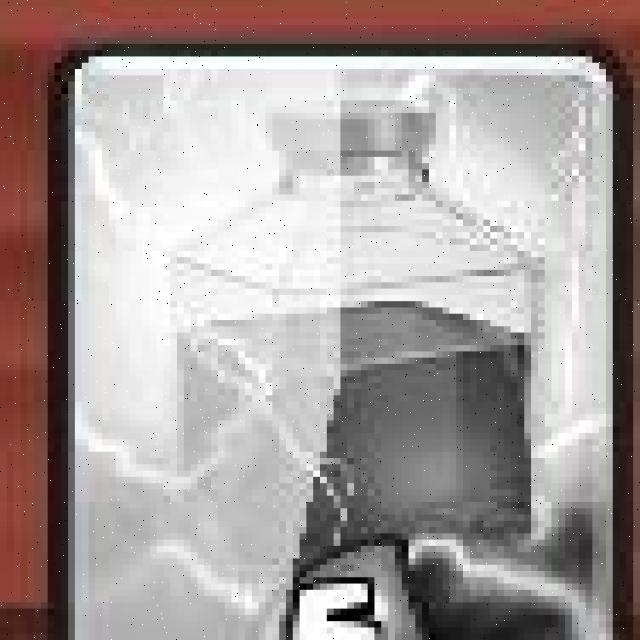Lightning: (49, 41, 629, 640)
